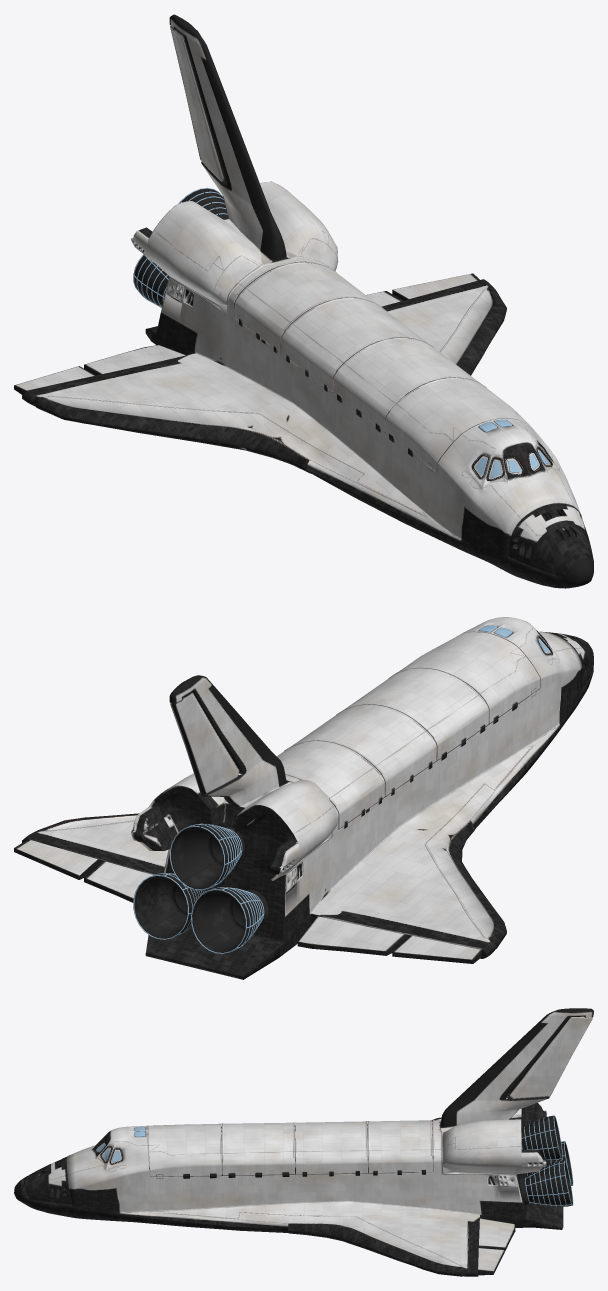
File: space_shuttleV2.glb
3 renders of one model, top to bottom at view 1: azimuth 30°, elevation 25°; view 2: azimuth 150°, elevation 25°; view 3: azimuth 270°, elevation 25°, orthographic. The views are drawn at different scales.
Visible parts, largest first — view 1: SM_Shuttle_M_Dummy_Metall_Shuttle_0.001; view 2: SM_Shuttle_M_Dummy_Metall_Shuttle_0.001; view 3: SM_Shuttle_M_Dummy_Metall_Shuttle_0.001.
Boxes of the visible parts, x1,y1,x2,y2 form: SM_Shuttle_M_Dummy_Metall_Shuttle_0.001: [14, 14, 593, 588]; SM_Shuttle_M_Dummy_Metall_Shuttle_0.001: [14, 617, 593, 979]; SM_Shuttle_M_Dummy_Metall_Shuttle_0.001: [14, 1008, 593, 1276].
Size of the model in its own units: 24.64 by 14.79 by 37.98.
Materials: 3 (1 with a texture image).
